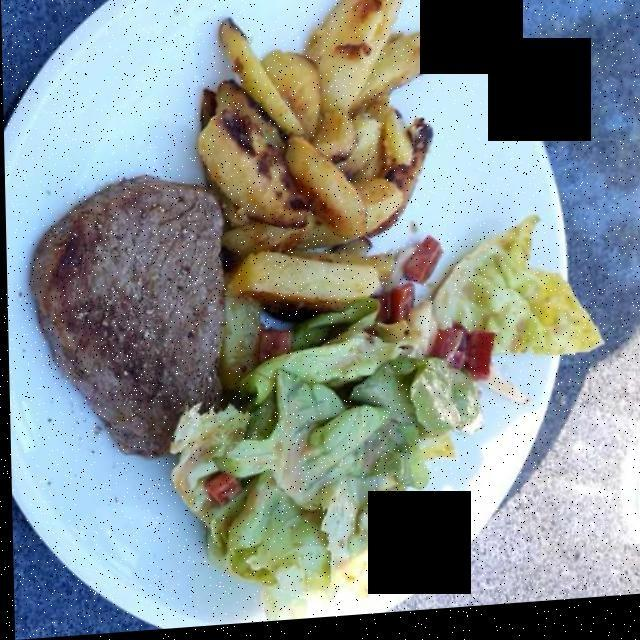bell-pepper: (204, 237, 494, 518)
fries: (201, 0, 454, 386)
salad: (166, 217, 605, 606), (173, 433, 304, 502)
